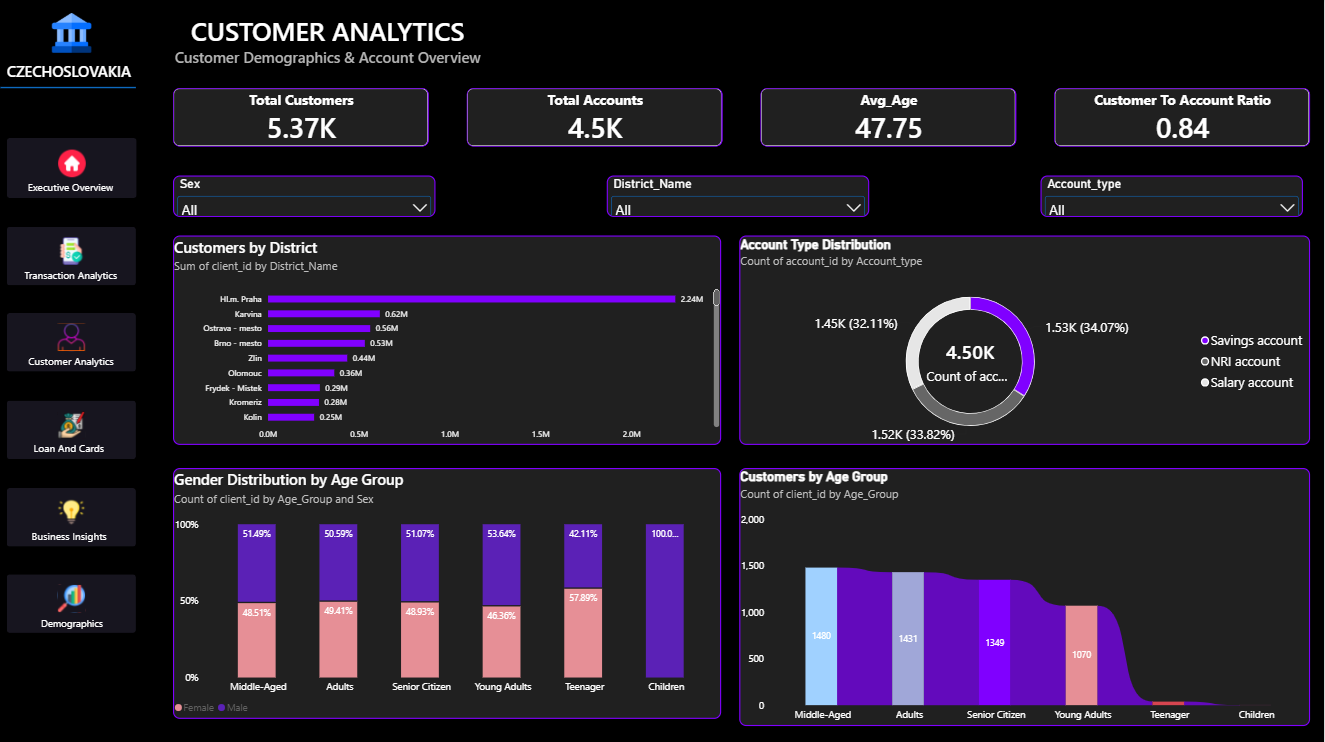

The page's visual inventory and layout, read from the dashboard file:
{"tool":"powerbi","page":{"name":"Customers","canvas":[1920,1080],"ordinal":2},"visuals":[{"type":"shape","box":[4,80,196,100],"z":0},{"type":"image","box":[70,22.5,72.5,57.5],"z":1000},{"type":"textbox","box":[12.5,90,220,45],"z":2000},{"type":"textbox","box":[200,22.5,552.5,95],"z":3000},{"type":"cardVisual","fields":{"Data":["_Measures.Total Customers"]},"box":[253.3,130,370,85],"z":4000},{"type":"cardVisual","fields":{"Data":["_Measures.Total Accounts"]},"box":[678.9,130,370,85],"z":5000},{"type":"cardVisual","fields":{"Data":["_Measures.Avg_Age_2022"]},"box":[1104.4,130,370,85],"z":6000},{"type":"slicer","fields":{"Values":["bank1 client.Sex"]},"box":[253.3,256.7,380,60],"z":7000},{"type":"slicer","fields":{"Values":["bank1 district.District_Name"]},"box":[881.7,256.7,380,60],"z":8000},{"type":"slicer","fields":{"Values":["bank1 account.Account_type"]},"box":[1510,256.7,380,60],"z":9000},{"type":"clusteredBarChart","title":"Customers by District","fields":{"Category":["bank1 district.District_Name"],"Y":["Sum(bank1 client.client_id)"]},"box":[253.3,343.3,793.3,303.3],"z":10000},{"type":"donutChart","title":"Account Type Distribution","fields":{"Category":["bank1 account.Account_type"],"Y":["CountNonNull(bank1 account.account_id)"]},"box":[1073.3,343.3,826.7,303.3],"z":11000},{"type":"ribbonChart","title":"Customers by Age Group","fields":{"Category":["bank1 client.Age_Group"],"Y":["CountNonNull(bank1 client.client_id)"]},"box":[1073.3,680,826.7,373.3],"z":12000},{"type":"cardVisual","fields":{"Data":["_Measures.Customer To Account Ratio"]},"box":[1530,130,370,85],"z":13000},{"type":"hundredPercentStackedColumnChart","title":"Gender Distribution by Age Group","fields":{"Category":["bank1 client.Age_Group"],"Series":["bank1 client.Sex"],"Y":["CountNonNull(bank1 client.client_id)"]},"box":[253.3,680,793.3,363.3],"z":14000},{"type":"actionButton","box":[12.5,330.6,187,85],"z":15000},{"type":"actionButton","box":[12.5,456.7,187,85],"z":16000},{"type":"actionButton","box":[12.5,582.8,187,85],"z":17000},{"type":"actionButton","box":[12.5,708.9,187,85],"z":18000},{"type":"actionButton","box":[12.5,202.5,188.3,87],"z":19000},{"type":"actionButton","box":[12.5,835,187,85],"z":20000}]}

Visuals, with their boxes on the page's 1920x1080 design canvas (x1, y1, x2, y2). These are canvas units, not pixel positions in the 1325x742 screenshot, which may show the page scaled, cropped or inside an application window:
shape: 4 80 200 180
image: 70 22 142 80
textbox: 12 90 232 135
textbox: 200 22 752 118
cardVisual - _Measures.Total Customers: 253 130 623 215
cardVisual - _Measures.Total Accounts: 679 130 1049 215
cardVisual - _Measures.Avg_Age_2022: 1104 130 1474 215
slicer - bank1 client.Sex: 253 257 633 317
slicer - bank1 district.District_Name: 882 257 1262 317
slicer - bank1 account.Account_type: 1510 257 1890 317
"Customers by District" clusteredBarChart: 253 343 1047 647
"Account Type Distribution" donutChart: 1073 343 1900 647
"Customers by Age Group" ribbonChart: 1073 680 1900 1053
cardVisual - _Measures.Customer To Account Ratio: 1530 130 1900 215
"Gender Distribution by Age Group" hundredPercentStackedColumnChart: 253 680 1047 1043
actionButton: 12 331 200 416
actionButton: 12 457 200 542
actionButton: 12 583 200 668
actionButton: 12 709 200 794
actionButton: 12 202 201 290
actionButton: 12 835 200 920
